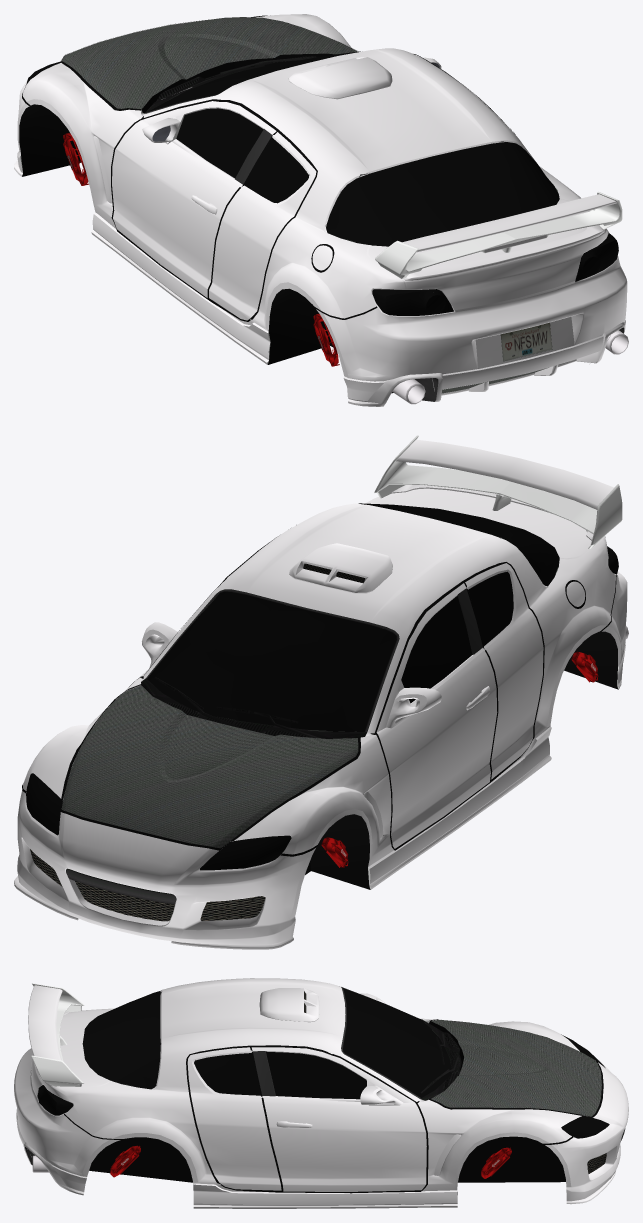
The model's file is car.fbx.
The picture shows the model from 3 angles, top to bottom: view 1: azimuth 30°, elevation 25°; view 2: azimuth 150°, elevation 25°; view 3: azimuth 270°, elevation 25°; orthographic projection. The views are drawn at different scales.
Visible parts, largest first — view 1: car; view 2: car; view 3: car.
Part boxes in pixels (x1,y1,x2,y2): car: [14, 14, 628, 406]; car: [14, 435, 628, 949]; car: [14, 978, 628, 1208].
Size of the model in its own units: 192 by 135 by 475.
